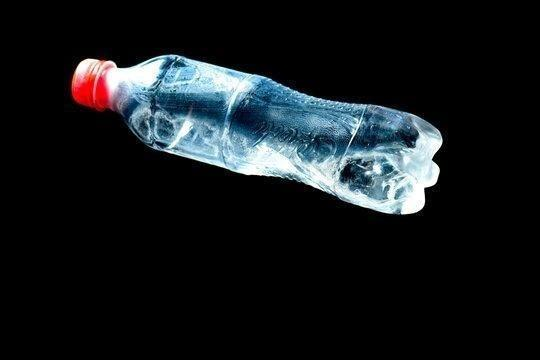bottle-plastic: (70, 51, 444, 216)
